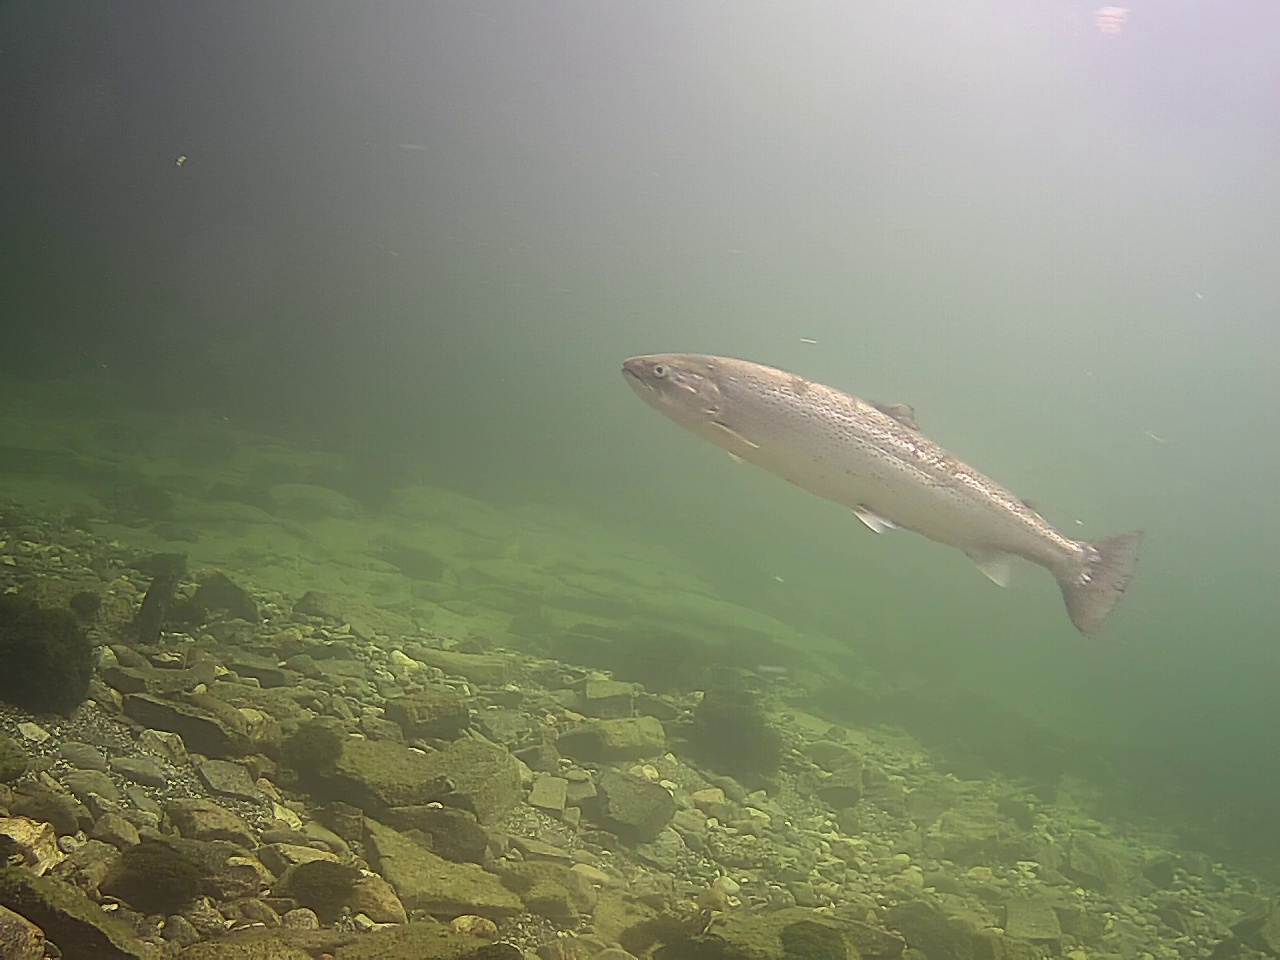salmon: (620, 350, 1152, 639)
